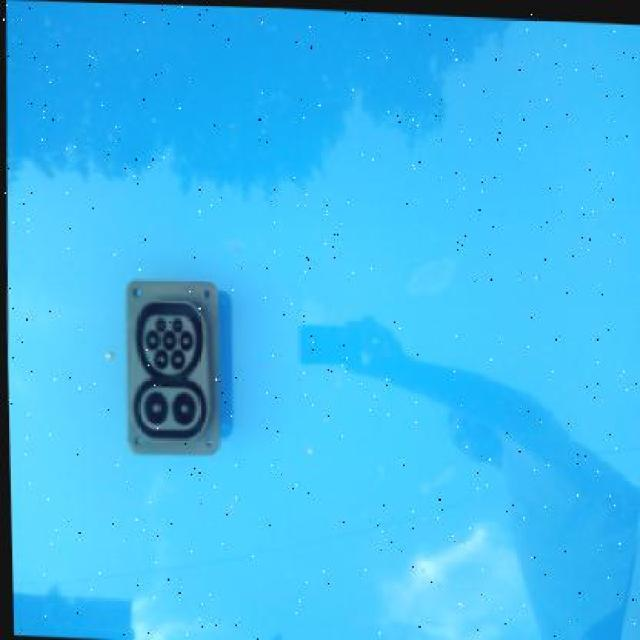CCS2: (92, 258, 244, 474)
